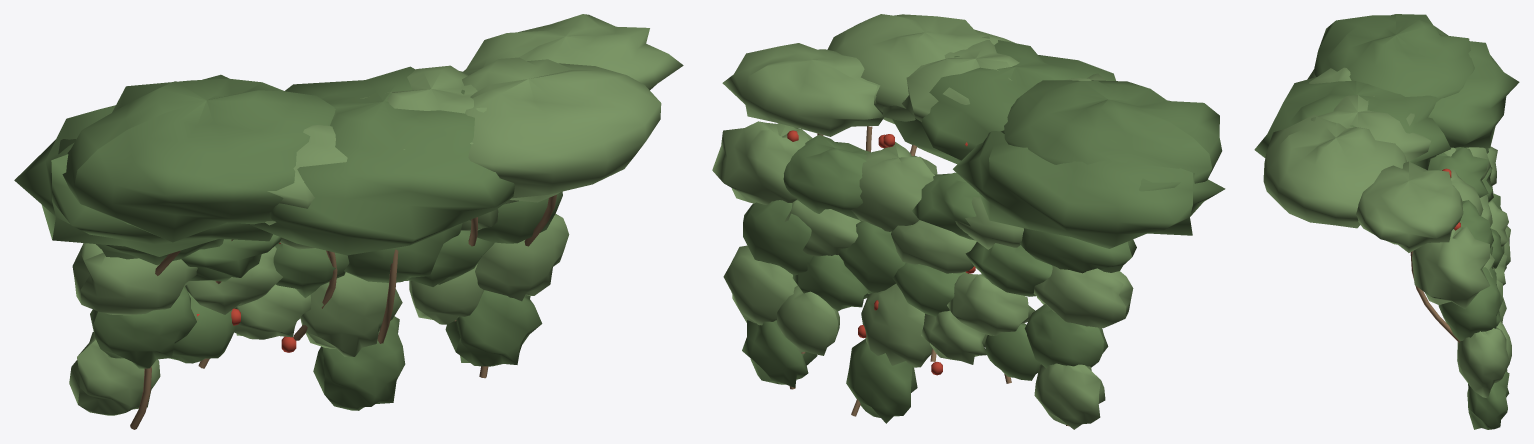
The model's file is madarbirs-kaszkad.glb.
3 renders of one model, left to right at view 1: azimuth 30°, elevation 25°; view 2: azimuth 150°, elevation 25°; view 3: azimuth 270°, elevation 25°, orthographic. The views are drawn at different scales.
Visible parts, largest first — view 1: tomeg-6, tomeg-2, tomeg-3, tomeg-4, tomeg-7, csorgas-1-2, csorgas-4-3, csorgas-4-4, csorgas-6-4, csorgas-1-3, csorgas-6-3, csorgas-1-4 (+14 smaller); view 2: tomeg-4, tomeg-6, tomeg-7, tomeg-2, tomeg-3, csorgas-6-1, csorgas-5-1, csorgas-4-1, csorgas-1-2, csorgas-4-3, csorgas-4-4, tomeg-5 (+18 smaller); view 3: tomeg-3, tomeg-6, tomeg-7, tomeg-2, tomeg-4, csorgas-6-1, tomeg-5, csorgas-6-3, csorgas-6-2, csorgas-6-4, csorgas-3-1, csorgas-5-1 (+7 smaller).
Boxes of the visible parts, bbox=[...] form: tomeg-6: bbox=[58, 78, 335, 242]; tomeg-2: bbox=[248, 66, 514, 255]; tomeg-3: bbox=[462, 57, 661, 202]; tomeg-4: bbox=[14, 74, 272, 256]; tomeg-7: bbox=[463, 14, 683, 90]; csorgas-1-2: bbox=[72, 243, 197, 315]; csorgas-4-3: bbox=[300, 272, 402, 356]; csorgas-4-4: bbox=[313, 316, 405, 410]; csorgas-6-4: bbox=[445, 290, 542, 366]; csorgas-1-3: bbox=[90, 286, 196, 368]; csorgas-6-3: bbox=[475, 213, 569, 301]; csorgas-1-4: bbox=[69, 332, 160, 415]; tomeg-4: bbox=[953, 131, 1225, 248]; tomeg-6: bbox=[1001, 80, 1222, 191]; tomeg-7: bbox=[722, 43, 884, 136]; tomeg-2: bbox=[892, 40, 1115, 164]; tomeg-3: bbox=[827, 14, 1015, 123]; csorgas-6-1: bbox=[712, 121, 812, 204]; csorgas-5-1: bbox=[783, 134, 870, 220]; csorgas-4-1: bbox=[851, 142, 937, 231]; csorgas-1-2: bbox=[1033, 265, 1133, 328]; csorgas-4-3: bbox=[861, 283, 932, 367]; csorgas-4-4: bbox=[846, 339, 917, 423]; tomeg-5: bbox=[883, 36, 1019, 121]; tomeg-3: bbox=[1263, 114, 1406, 228]; tomeg-6: bbox=[1313, 14, 1474, 101]; tomeg-7: bbox=[1356, 161, 1463, 252]; tomeg-2: bbox=[1254, 77, 1450, 170]; tomeg-4: bbox=[1428, 26, 1519, 148]; csorgas-6-1: bbox=[1412, 226, 1490, 309]; tomeg-5: bbox=[1311, 95, 1430, 161]; csorgas-6-3: bbox=[1457, 327, 1509, 397]; csorgas-6-2: bbox=[1438, 267, 1500, 340]; csorgas-6-4: bbox=[1467, 371, 1509, 429]; csorgas-3-1: bbox=[1428, 147, 1488, 197]; csorgas-5-1: bbox=[1459, 200, 1493, 248].
Size of the model in its own units: 2.22 by 1.45 by 1.22.
